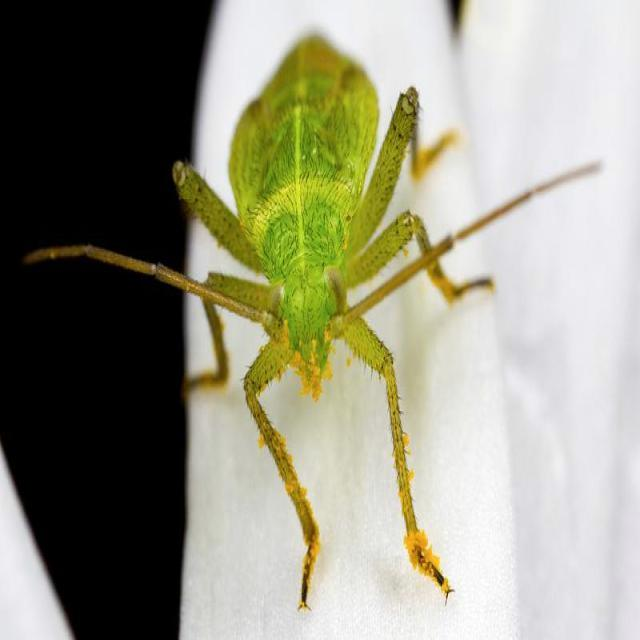aphid: (27, 38, 616, 613)
